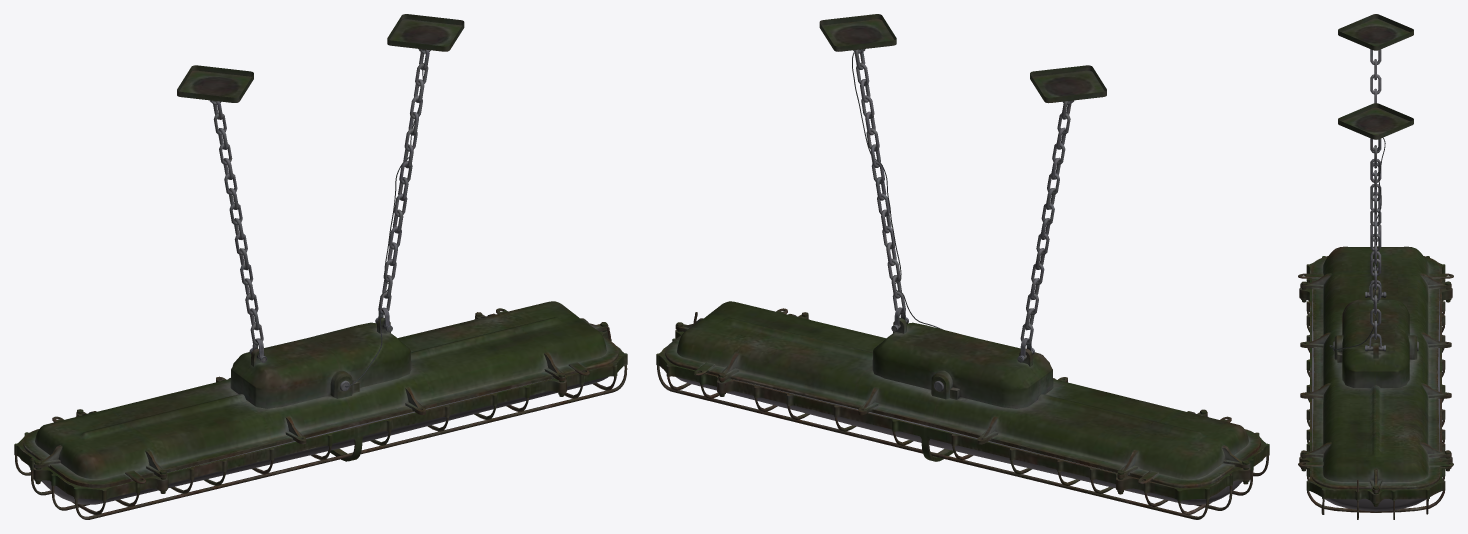
Rendered from caged_hanging_light.glb.
3 renders of one model, left to right at view 1: azimuth 30°, elevation 25°; view 2: azimuth 150°, elevation 25°; view 3: azimuth 270°, elevation 25°, orthographic. The views are drawn at different scales.
Parts seen in each view (by area): view 1: caged_hanging_light; view 2: caged_hanging_light; view 3: caged_hanging_light.
Boxes of the visible parts, left/top/right/bottom form: caged_hanging_light: left=14, top=14, right=627, bottom=519; caged_hanging_light: left=656, top=14, right=1269, bottom=519; caged_hanging_light: left=1298, top=14, right=1453, bottom=519.
Size of the model in its own units: 1.16 by 0.7501 by 0.3149.
1 material, 1 textured.
